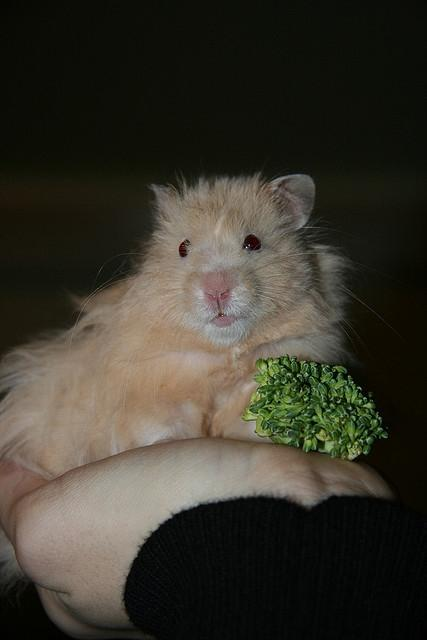broccoli: (244, 354, 390, 462)
